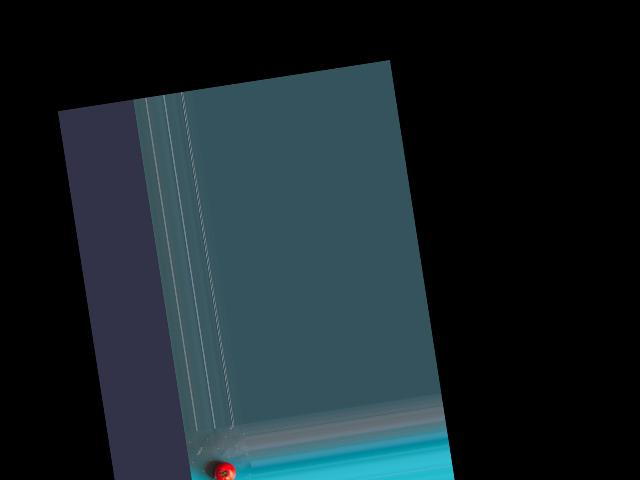tomato: (212, 460, 237, 480)
